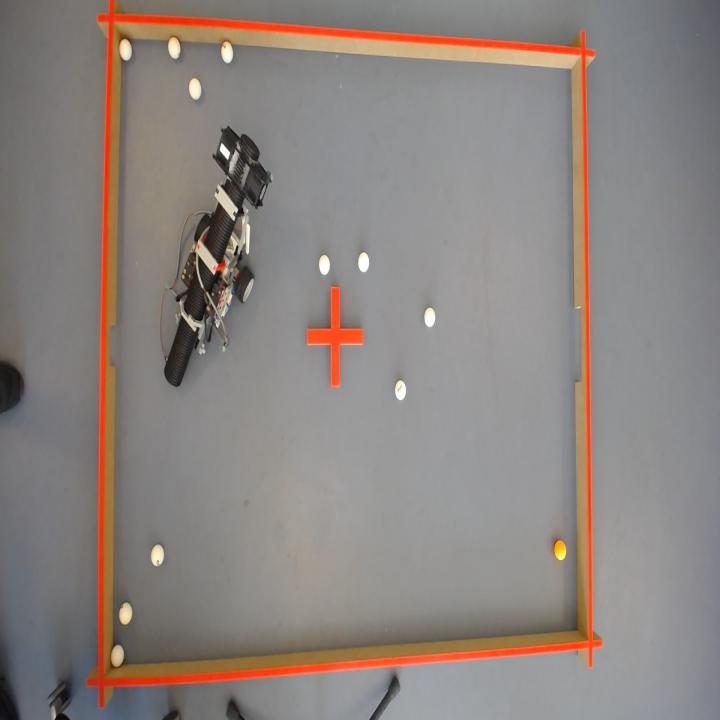orange: (555, 540, 567, 561)
robot: (163, 124, 272, 385)
white: (118, 602, 132, 626), (110, 645, 123, 668), (150, 545, 164, 566), (118, 37, 131, 59), (167, 35, 180, 57), (221, 39, 233, 62), (189, 76, 201, 98), (424, 306, 436, 326), (395, 379, 406, 400), (319, 254, 330, 274), (358, 251, 369, 271)
